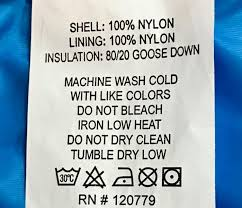ER_iron_low_temp: (112, 166, 135, 190)
ER_no_bleach: (82, 165, 108, 191)
ER_no_dry_clean: (137, 165, 158, 188)
ER_tumble_dry_low_heat: (159, 163, 184, 190)
ER_wash_30: (52, 163, 80, 189)
